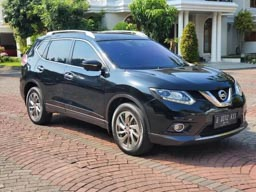plat: (216, 112, 238, 128)
